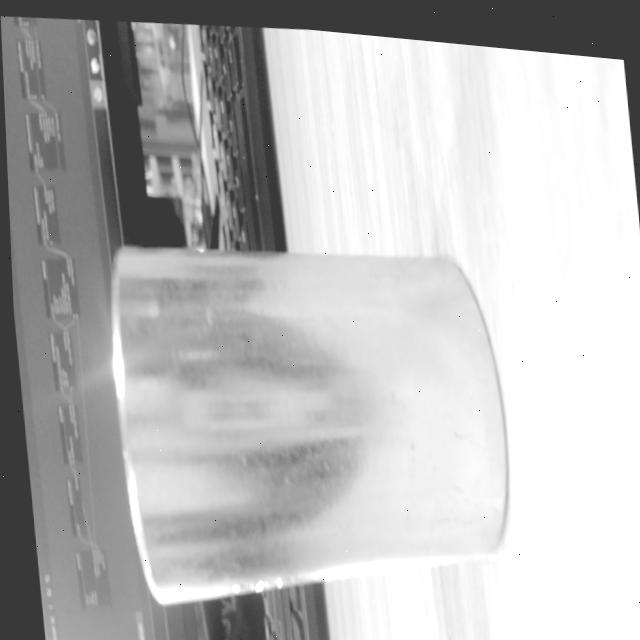Co_Nho: (98, 204, 521, 608)
